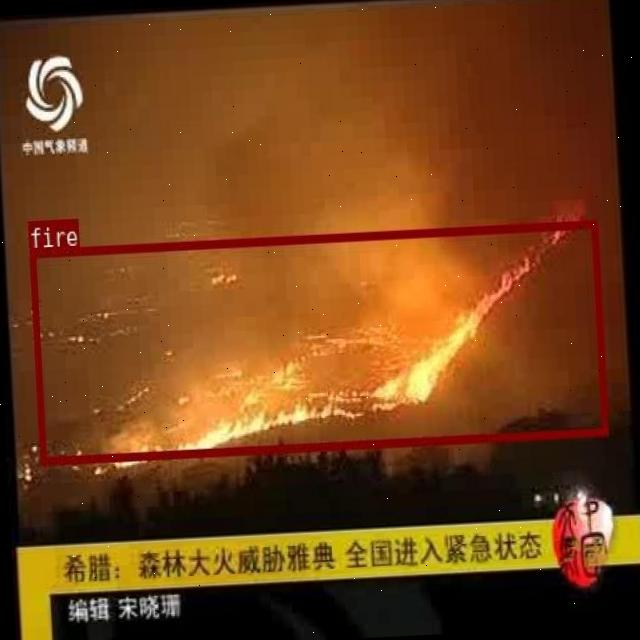fire: (29, 218, 607, 462)
